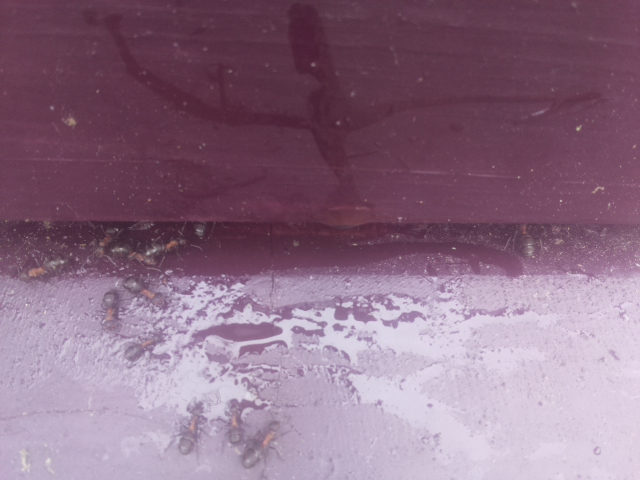ant: (232, 407, 290, 480), (175, 395, 211, 459), (116, 271, 171, 310), (12, 252, 73, 287), (118, 334, 169, 364), (96, 284, 123, 335), (511, 219, 541, 261), (223, 397, 247, 445), (139, 237, 190, 257)
